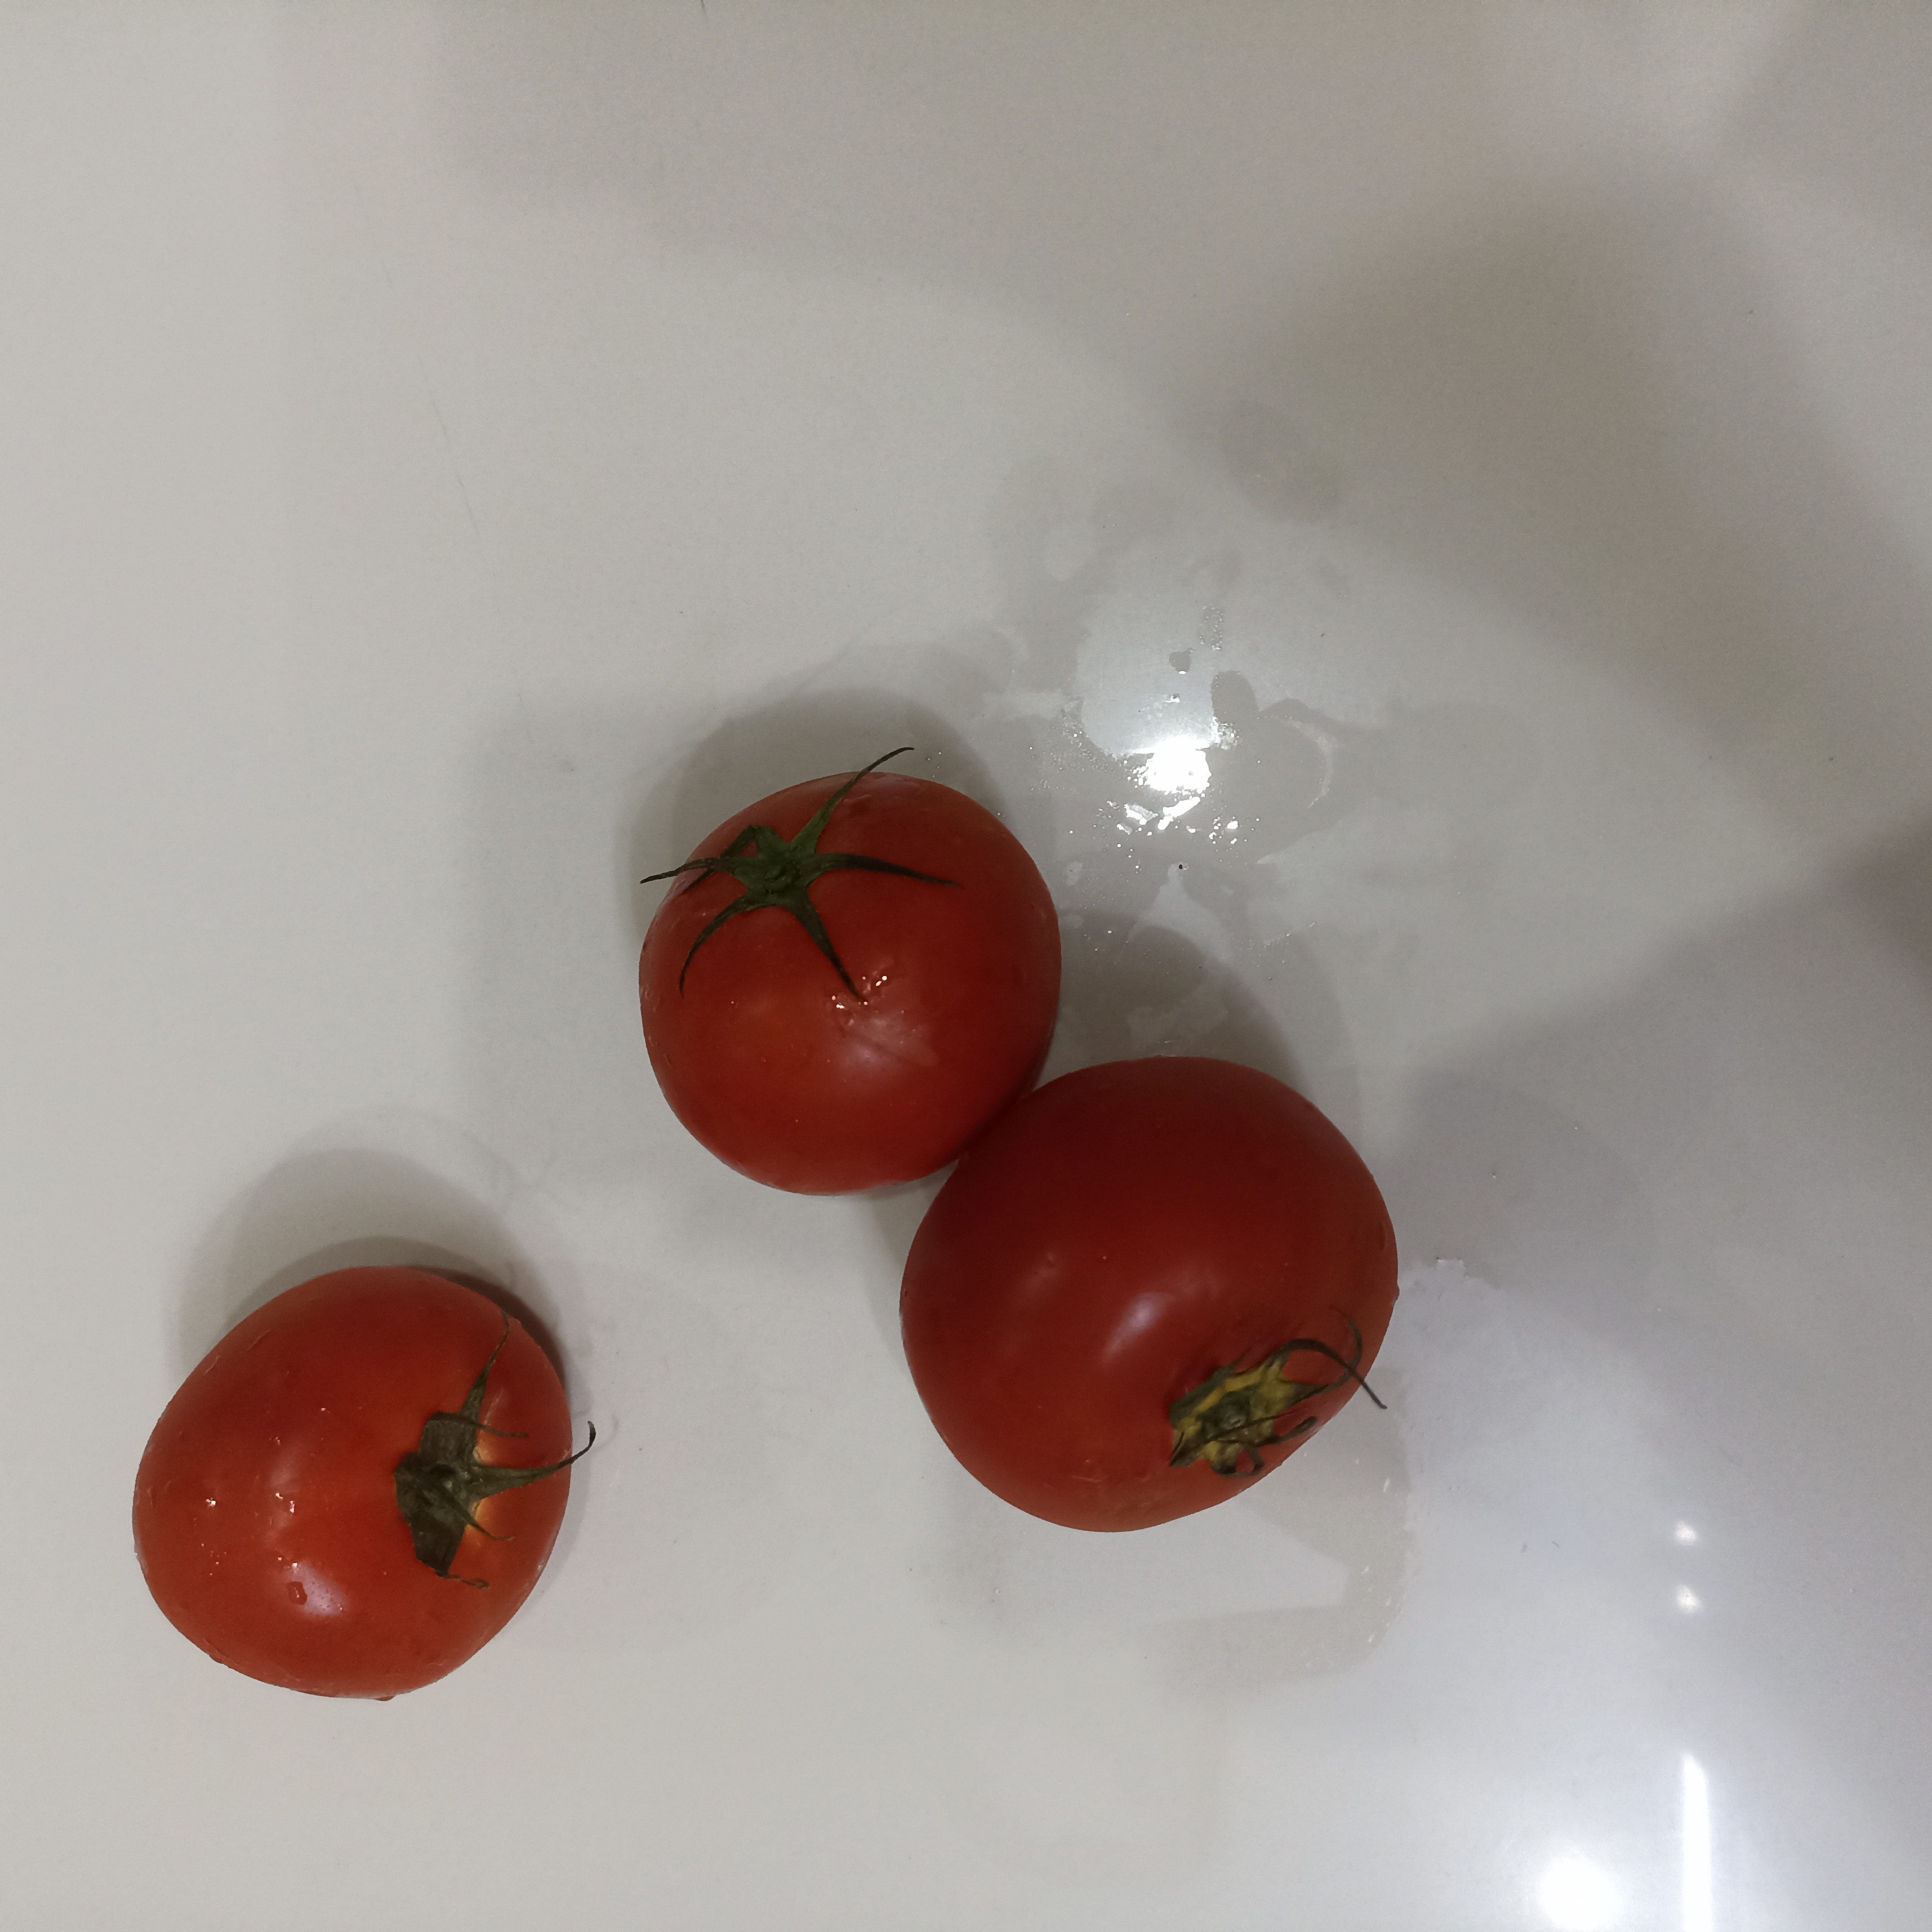Ca chua: (898, 1056, 1399, 1528), (130, 1264, 577, 1698), (634, 771, 1062, 1199)
